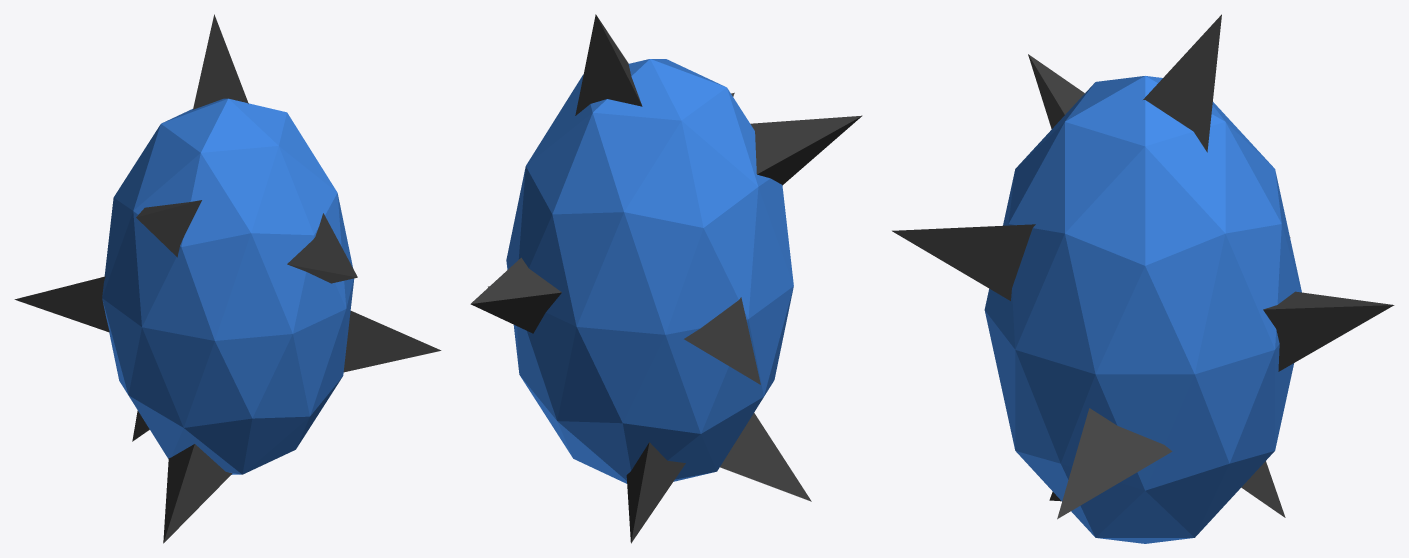
Rendered from flower01.fbx.
3 renders of one model, left to right at view 1: azimuth 30°, elevation 25°; view 2: azimuth 150°, elevation 25°; view 3: azimuth 270°, elevation 25°, orthographic. The views are drawn at different scales.
Parts seen in each view (by area): view 1: flower01; view 2: flower01; view 3: flower01.
Part boxes in pixels (x1,y1,x2,y2): flower01: [14, 14, 441, 543]; flower01: [470, 14, 862, 543]; flower01: [892, 14, 1394, 543].
Bounding box in the file's own units: 38.41 × 49.44 × 40.3.
